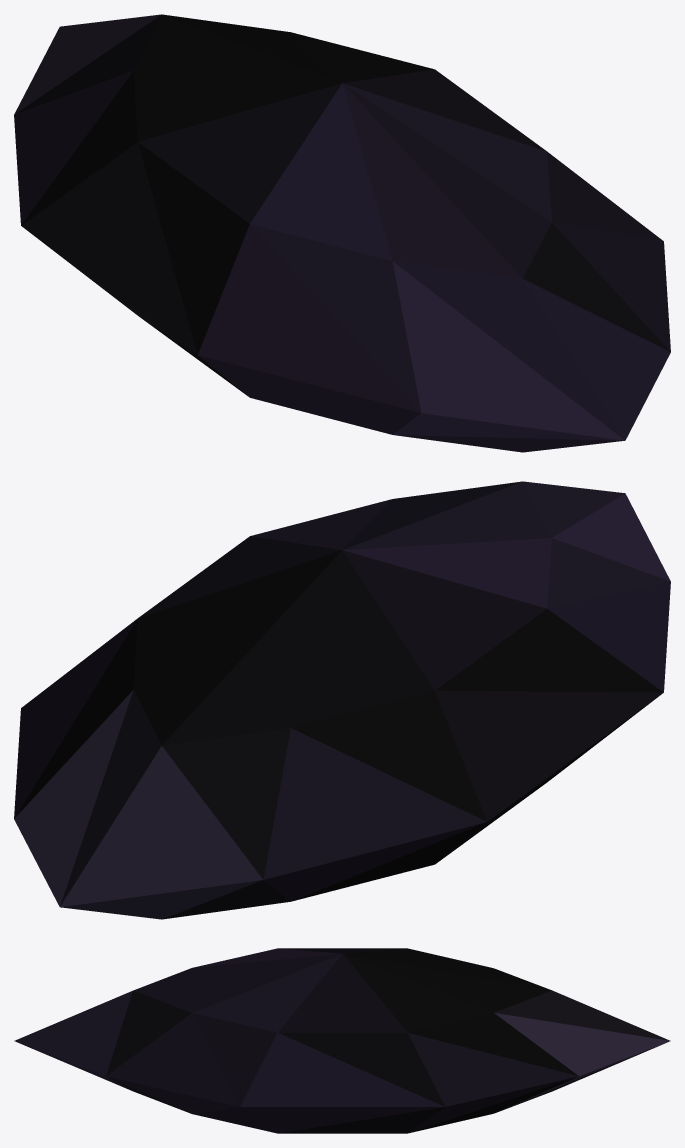
File: prop_treasure_gem_onyx_3.fbx
3 views of the same model, one above another, from view 1: azimuth 30°, elevation 25°; view 2: azimuth 150°, elevation 25°; view 3: azimuth 270°, elevation 25° (orthographic). The views are drawn at different scales.
Visible parts, largest first — view 1: prop_treasure_gem_onyx_3; view 2: prop_treasure_gem_onyx_3; view 3: prop_treasure_gem_onyx_3.
Part boxes in pixels (x1=…): prop_treasure_gem_onyx_3: x1=14, y1=14, x2=670, y2=452; prop_treasure_gem_onyx_3: x1=14, y1=481, x2=670, y2=919; prop_treasure_gem_onyx_3: x1=14, y1=948, x2=670, y2=1133.
Size of the model in its own units: 0.2791 by 0.1719 by 0.5865.
